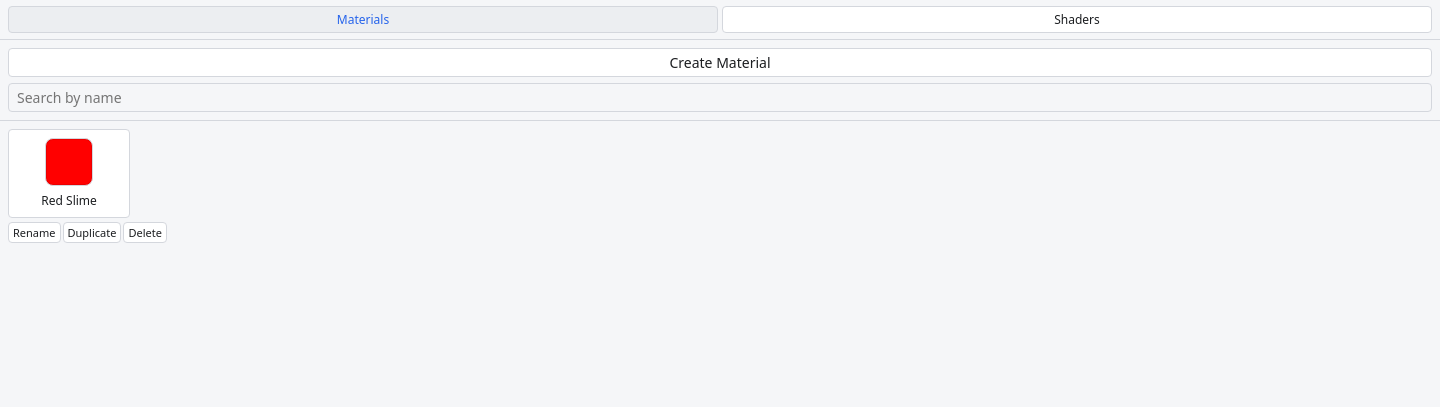
material definition panel › opens the definition panel with the shader picker and parameter list when a material is selected
Check: the text "Red Slime" is shown, box [41,192,97,209]
Click the button with aria-label "Select Red Slime".
click(69, 174)  # box [8,129,130,218]
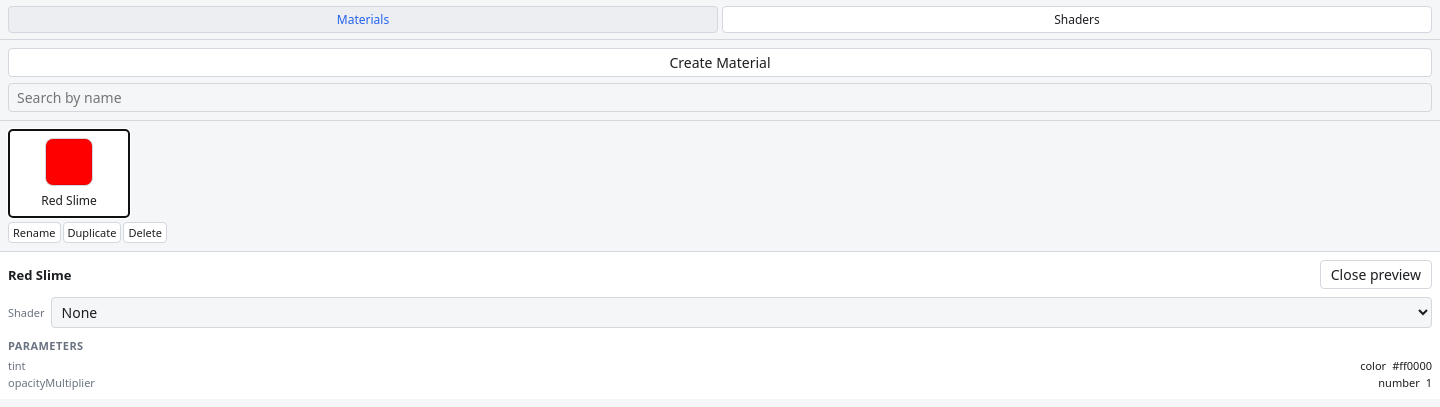
Check: the element named "Material definition" shows "Red Slime", box [8,266,71,284]
Check: the dropdown labelled "Shader" shows "None", box [50,297,1432,328]
Check: the element named "Material definition" shows "tint", box [8,358,26,373]
